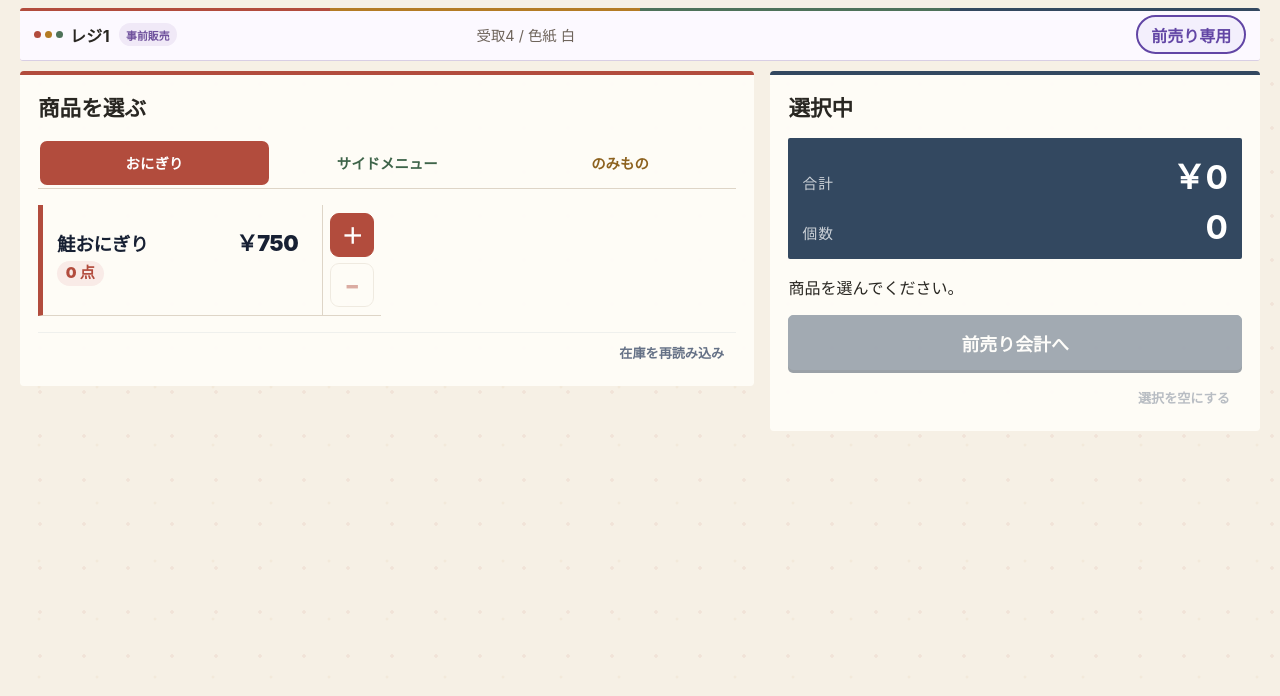
Test case: RegisterPage › 設定で前売り化したレジ1は受取4へ案内する
Expected: the text "前売り専用" is shown, [1136, 15, 1246, 54]
Expected: the text "受取4 / 色紙 白" is shown, [477, 27, 575, 44]
What coordinates should you click on to do the following:
click the button with aria-label "鮭おにぎり を 1 個追加する"
I would click on:
 (103, 244)
Its box is [43, 205, 312, 315].
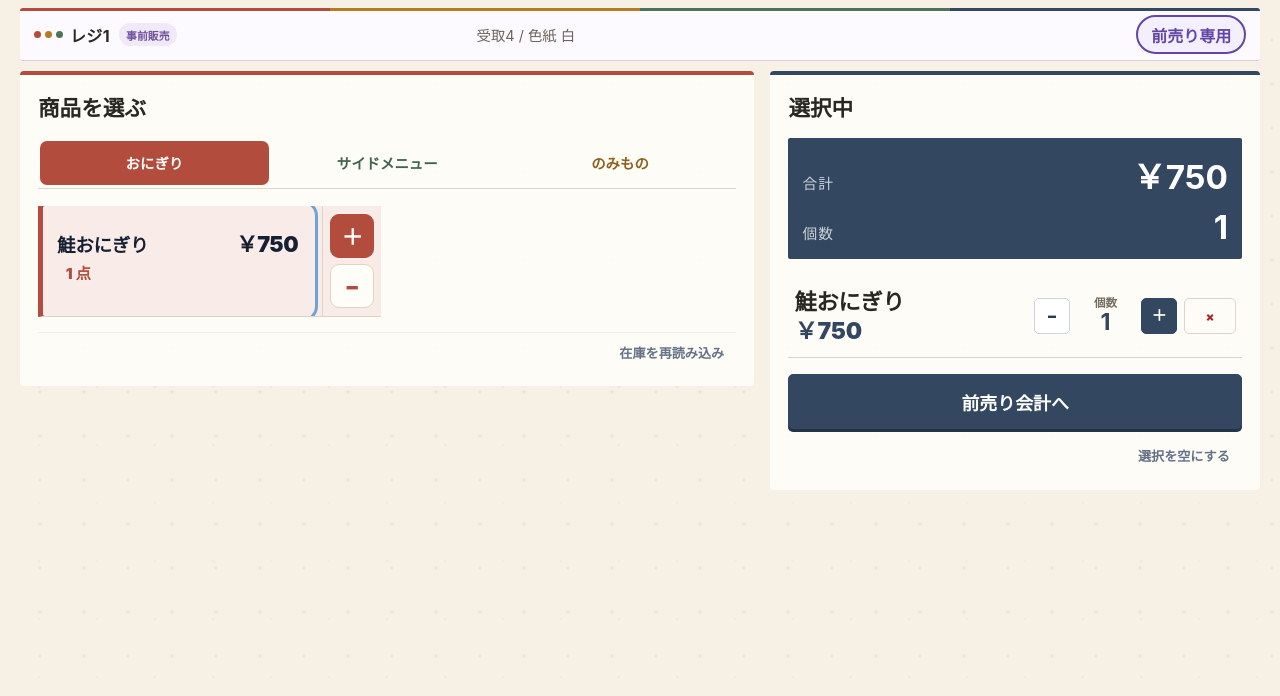
What coordinates should you click on to do the following:
click the button "前売り会計へ"
I would click on:
 (1015, 402)
Its box is [788, 374, 1242, 429].
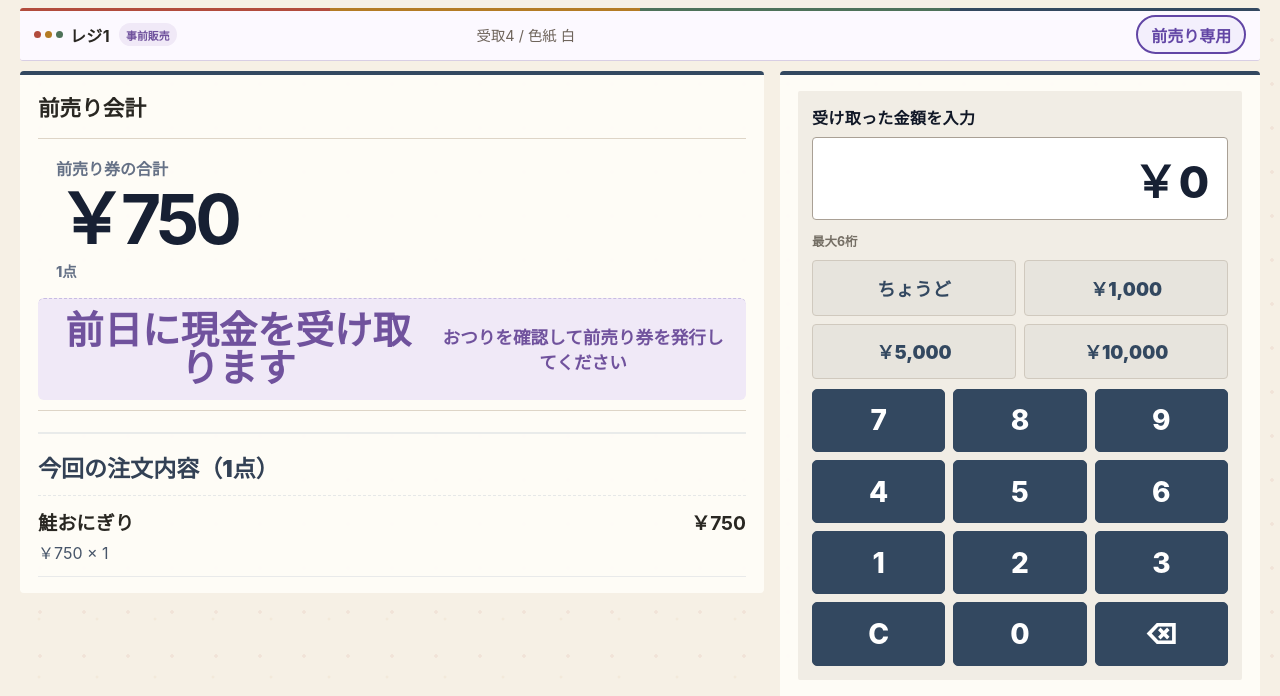
Expected: the heading "前売り会計" is shown, [38, 95, 146, 121]
